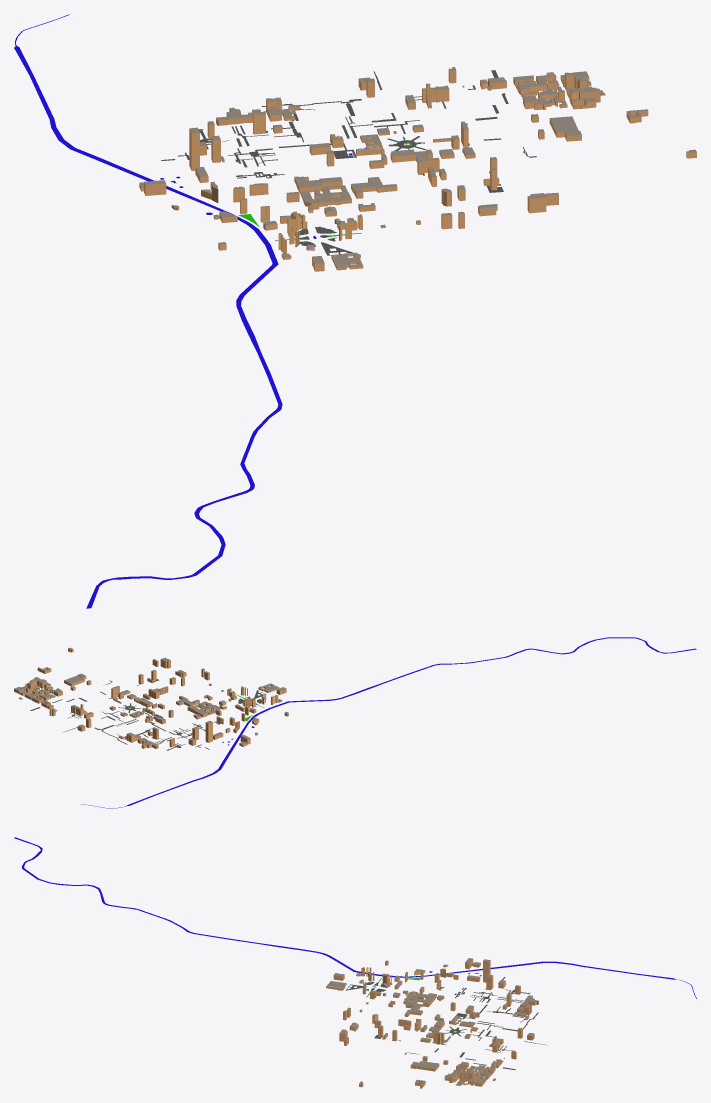
Rendered from Centro.glb.
3 renders of one model, top to bottom at view 1: azimuth 30°, elevation 25°; view 2: azimuth 150°, elevation 25°; view 3: azimuth 270°, elevation 25°, orthographic. The views are drawn at different scales.
Visible parts, largest first — view 1: map.osm_buildings, map.osm_water, map.osm_areas_pedestrian; view 2: map.osm_buildings, map.osm_water, map.osm_areas_pedestrian; view 3: map.osm_buildings, map.osm_water, map.osm_areas_pedestrian.
Boxes of the visible parts, <box> form: map.osm_buildings: <box>139,67,696,271</box>; map.osm_water: <box>14,14,404,608</box>; map.osm_areas_pedestrian: <box>161,70,536,255</box>; map.osm_buildings: <box>14,647,288,748</box>; map.osm_water: <box>81,637,696,808</box>; map.osm_areas_pedestrian: <box>30,679,266,750</box>; map.osm_buildings: <box>326,958,538,1088</box>; map.osm_water: <box>14,837,696,1017</box>; map.osm_areas_pedestrian: <box>346,977,547,1069</box>.
Size of the model in its own units: 2812 by 110 by 3226.
